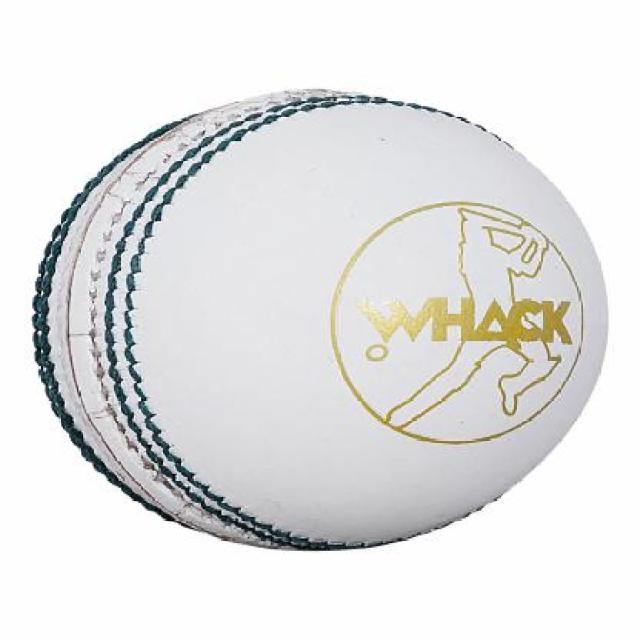ball: (1, 59, 640, 584)
